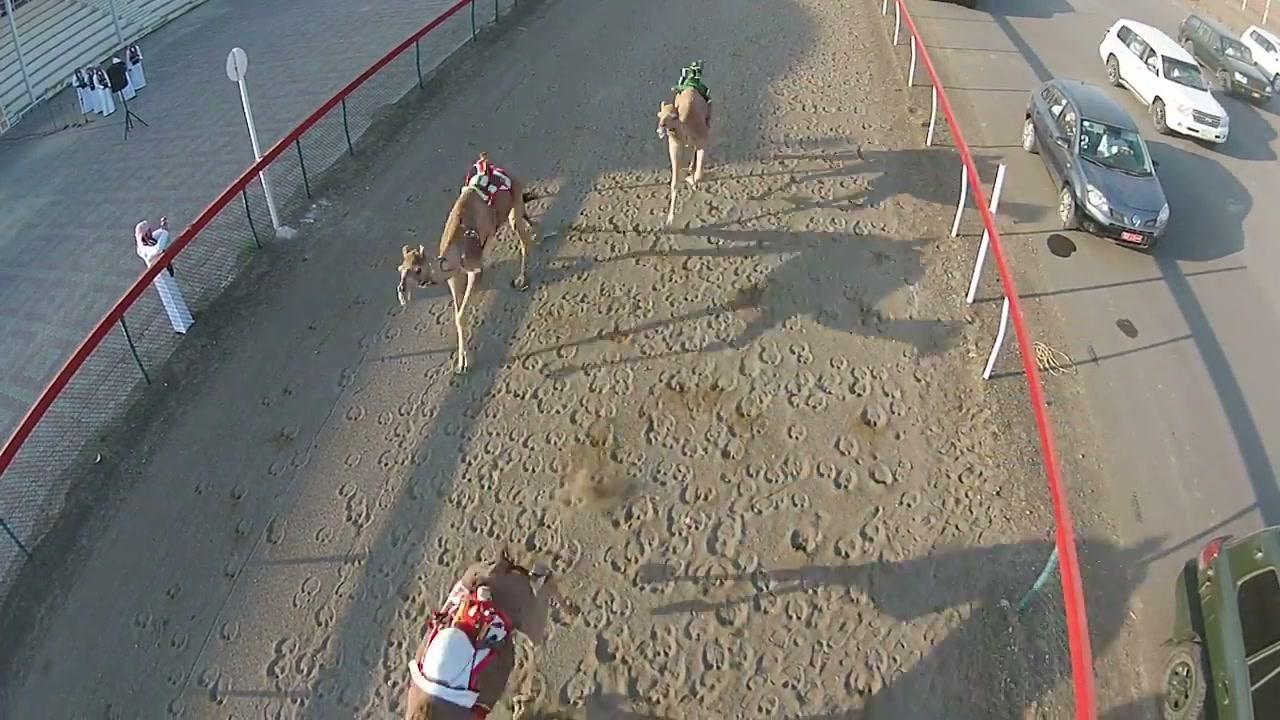animal_foot_print: (162, 3, 1048, 719), (603, 527, 661, 575), (559, 660, 598, 707), (706, 513, 744, 557), (610, 495, 656, 531), (787, 518, 822, 555)
